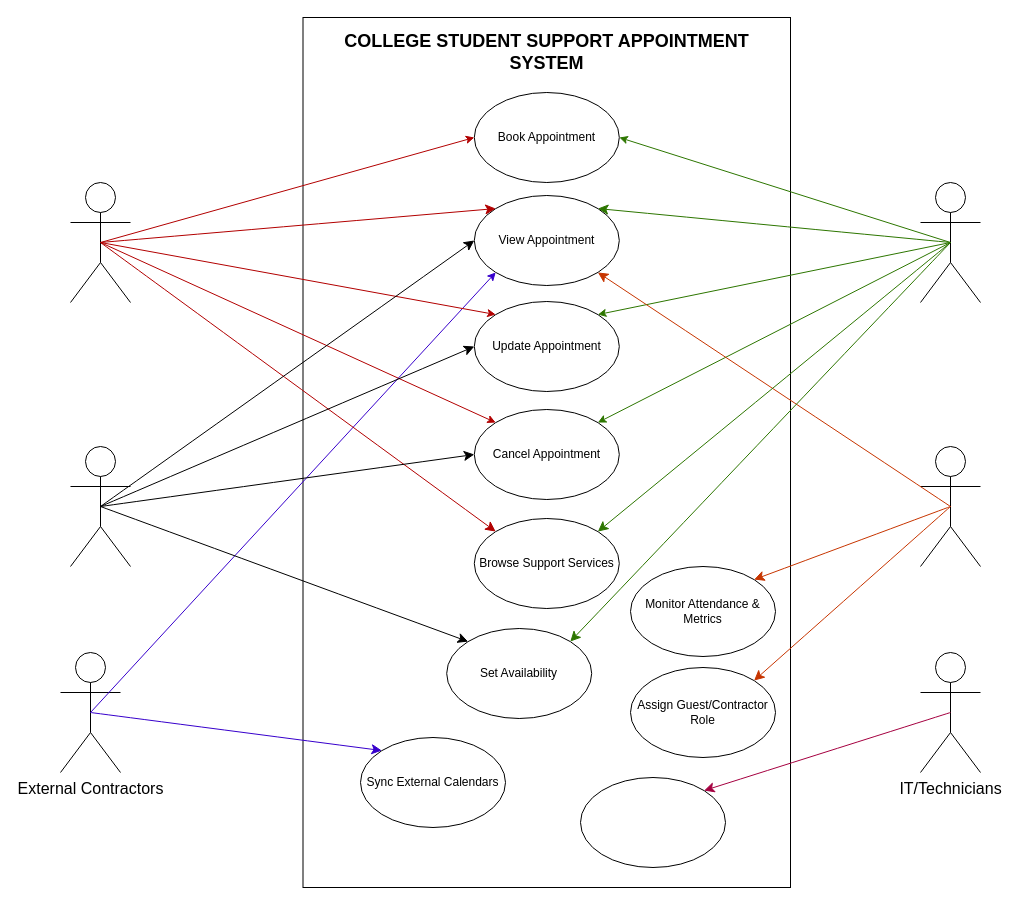
Some shapes in this 1036 by 905 pixel diagram are drawn without their labels. Here are the shapes that lost their labels. From the top down, the centre of each, then its label:
At point 100,242: "Student".
At point 950,242: "Student Mentor".
At point 100,506: "Staff".
At point 950,506: "Administrative Staff".
At point 653,822: "Manage System Integration".
